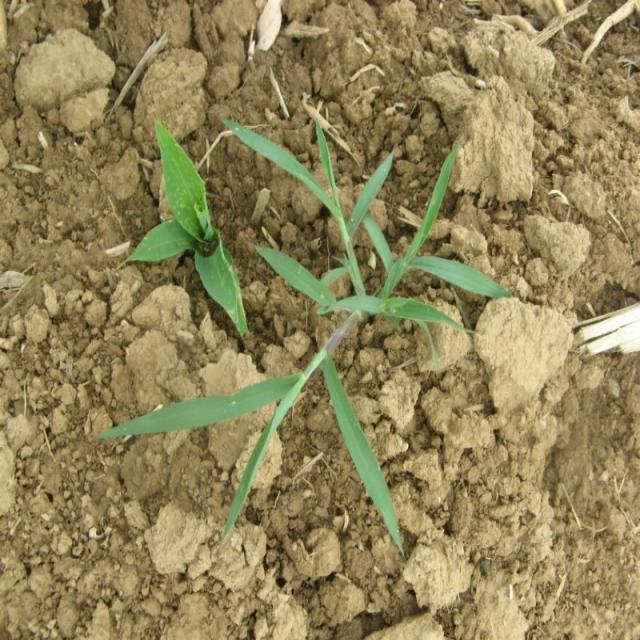bg: (215, 111, 512, 557)
